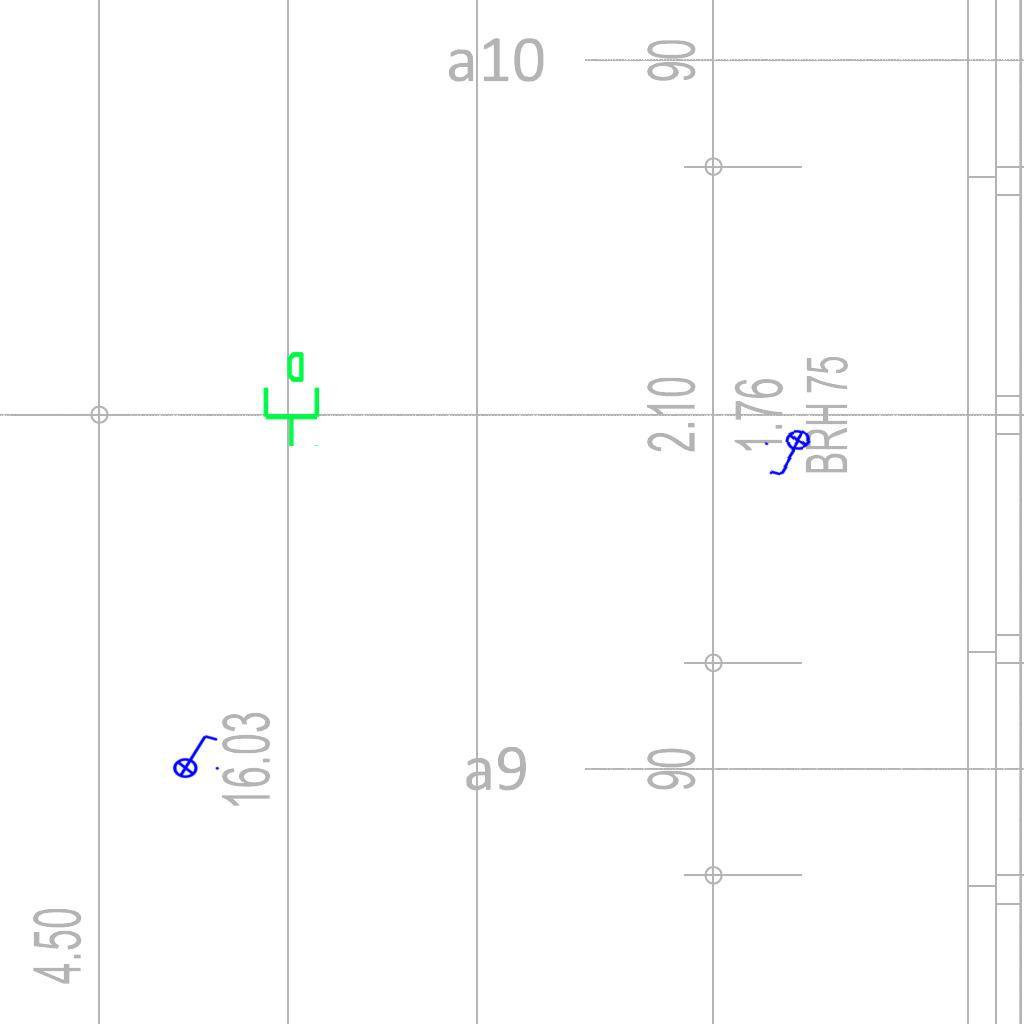Ausschalter_beleuchtet: (760, 426, 822, 482), (166, 731, 222, 779)
Datenanschluss_einfach: (255, 349, 324, 449)
